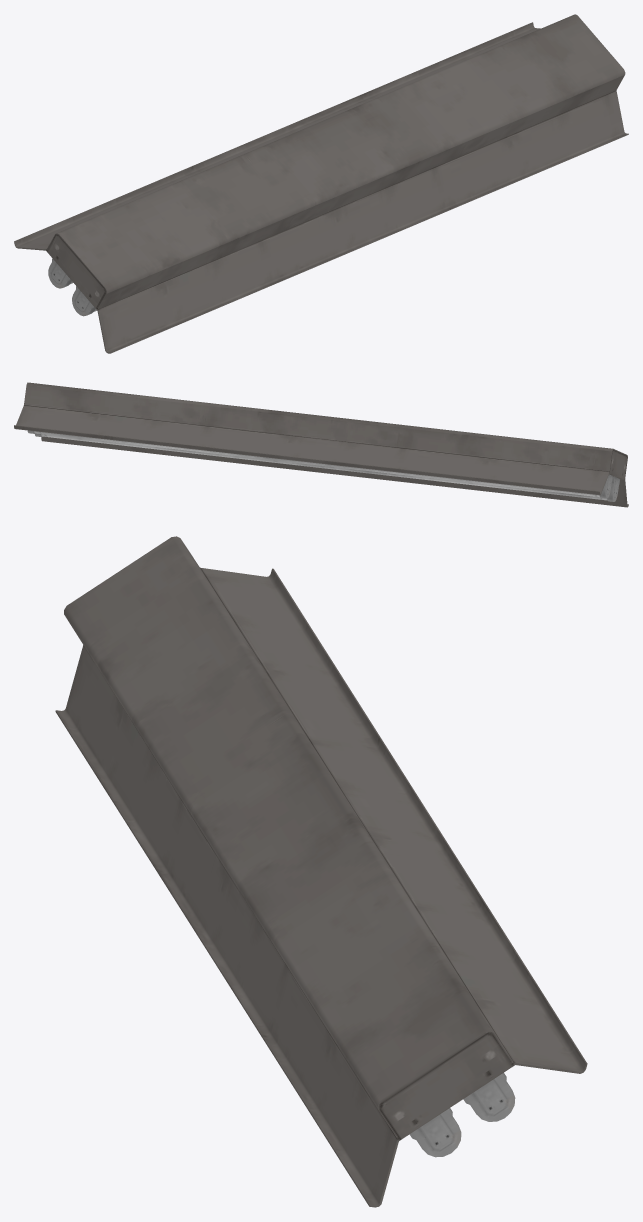
Rendered from fluorescent.glb.
The picture shows the model from 3 angles, top to bottom: view 1: azimuth 30°, elevation 25°; view 2: azimuth 150°, elevation 25°; view 3: azimuth 270°, elevation 25°; orthographic projection. The views are drawn at different scales.
Visible parts, largest first — view 1: pCube21, pCube22, pCube20; view 2: pCube20, pCube21, pCube22, pCylinder38, pCylinder41, pCylinder37; view 3: pCube21, pCube20, pCube22, pCylinder39, pCylinder36.
Boxes of the visible parts, <box> form: pCube21: <box>46,14,625,310</box>; pCube22: <box>97,90,628,353</box>; pCube20: <box>14,22,540,250</box>; pCube20: <box>14,405,609,495</box>; pCube21: <box>24,382,627,479</box>; pCube22: <box>41,436,628,507</box>; pCylinder38: <box>41,434,607,500</box>; pCylinder41: <box>34,431,599,497</box>; pCylinder37: <box>607,476,619,501</box>; pCube21: <box>64,536,514,1140</box>; pCube20: <box>200,567,587,1073</box>; pCube22: <box>55,645,398,1207</box>; pCylinder39: <box>409,1108,461,1157</box>; pCylinder36: <box>463,1073,515,1121</box>.
Bounding box in the file's own units: 1.52 × 0.2223 × 0.658.
Materials: 1 (1 with a texture image).
